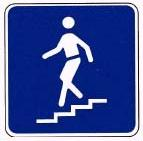Passagem desnivelada para peoes: (0, 3, 143, 141)
